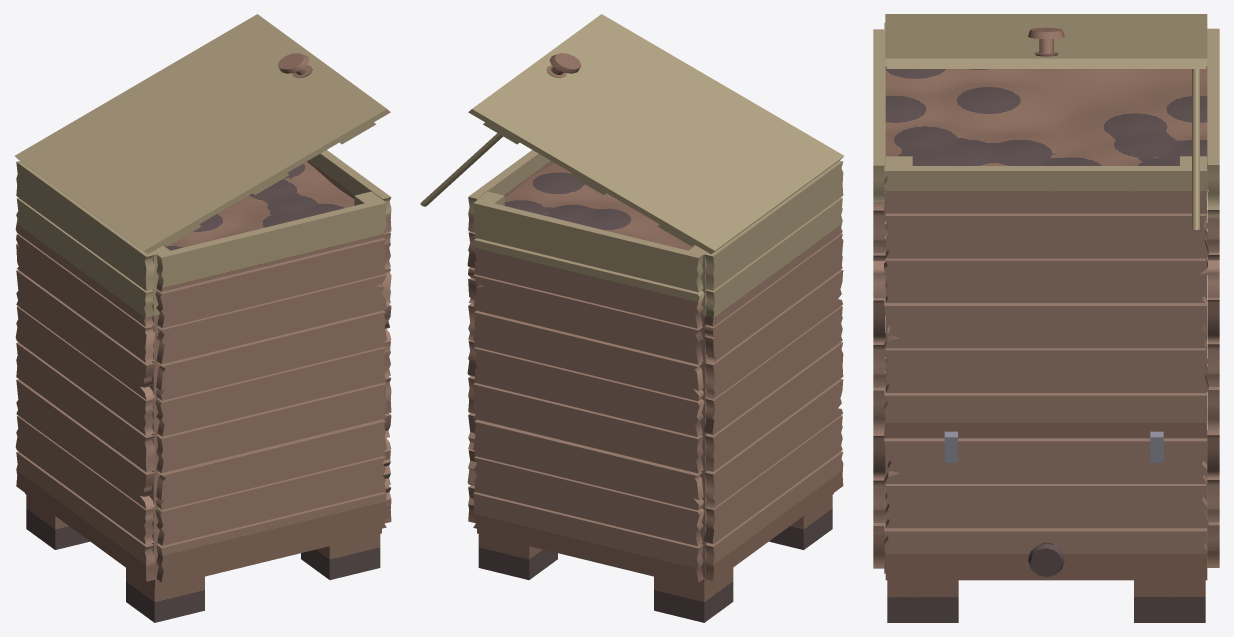
Rendered from compost_base.fbx.
3 renders of one model, left to right at view 1: azimuth 30°, elevation 25°; view 2: azimuth 150°, elevation 25°; view 3: azimuth 270°, elevation 25°, orthographic. The views are drawn at different scales.
Visible parts, largest first — view 1: Cube.103, Cube.098, puerta_anim1, compost_base, Plane.001, Cube.104, Cube.102, base, puerta_anim2; view 2: Cube.097, Cube.098, puerta_anim1, compost_base, Plane.001, Cube.104, Cube.102, base, puerta_anim2; view 3: Cube.104, puerta_anim2, Plane.001, puerta_anim1, Cube.097, Cube.103, compost_base, base, Cube.102.
Part boxes in pixels (x1,y1,x2,y2): Cube.103: (155,199,386,582); Cube.098: (15,161,154,581); puerta_anim1: (15,14,390,253); compost_base: (26,495,380,622); Plane.001: (163,161,354,250); Cube.104: (307,150,391,414); Cube.102: (149,191,382,577); base: (25,493,381,588); puerta_anim2: (383,413,391,523); Cube.097: (473,199,704,582); Cube.098: (704,160,843,580); puerta_anim1: (420,14,843,253); compost_base: (478,495,832,622); Plane.001: (504,163,695,250); Cube.104: (467,150,554,413); Cube.102: (476,191,707,577); base: (477,493,833,588); puerta_anim2: (467,413,476,523); Cube.104: (884,166,1208,438); puerta_anim2: (884,431,1208,577); Plane.001: (884,66,1208,193); puerta_anim1: (885,14,1207,229); Cube.097: (1207,28,1219,567); Cube.103: (873,29,885,568); compost_base: (887,580,1205,622); base: (885,430,1207,580); Cube.102: (886,156,1206,566).
Size of the model in its own units: 212 by 318 by 171.
